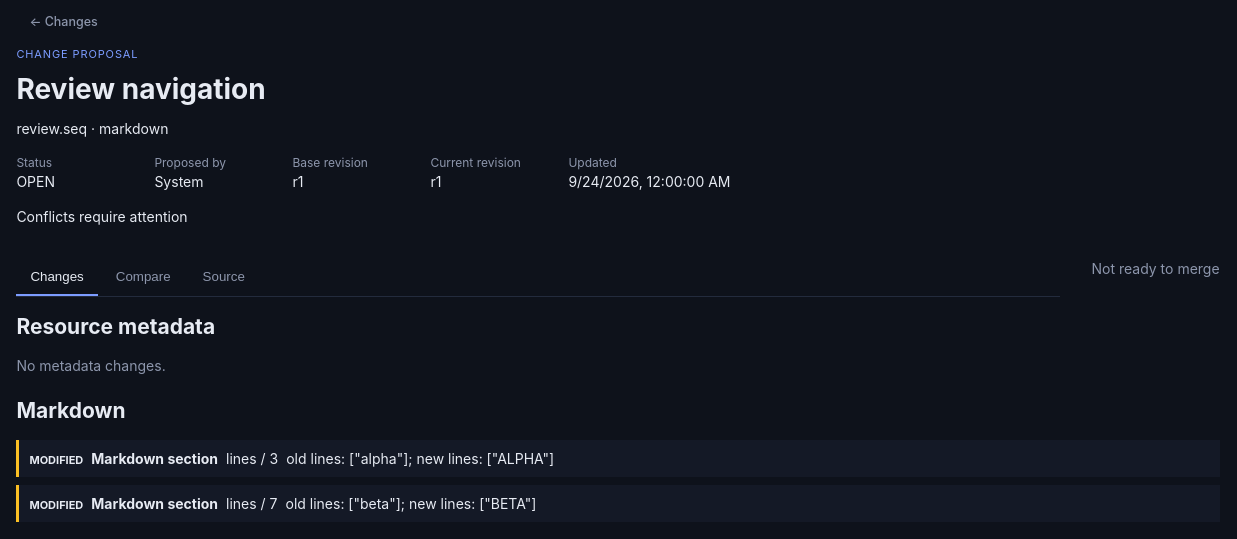
Test: proposal review change navigation › markdown › disables previous at the start and next at the end
This screenshot has width=1237, height=539.
Click the button "Source": (224,278) left=189, top=259, right=259, bottom=296
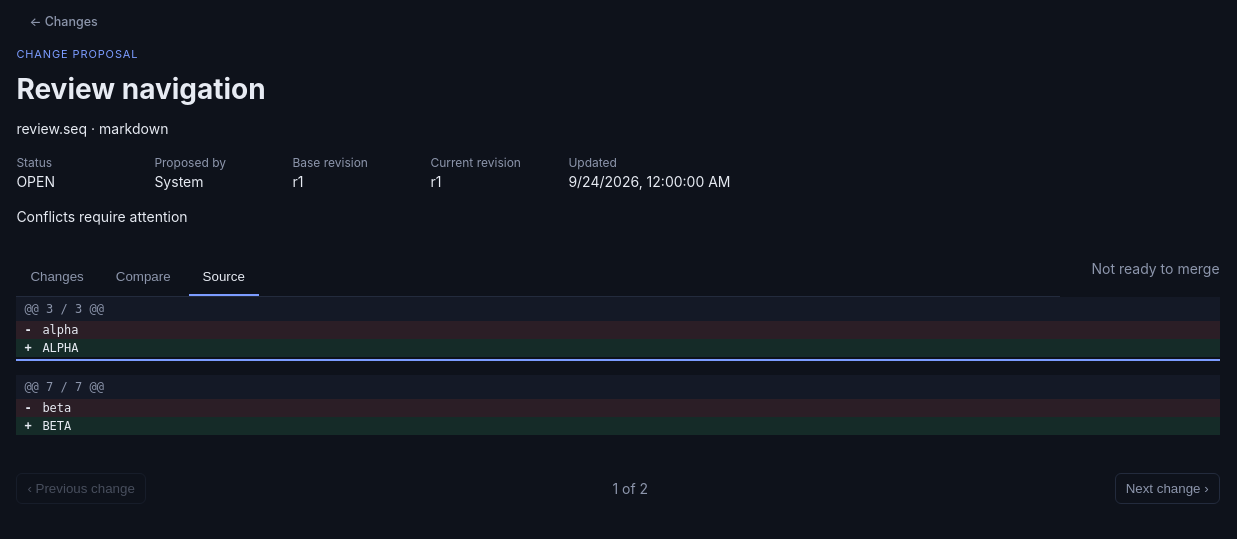
Result: the button with test id "change-previous" is disabled at left=16, top=473, right=146, bottom=504
Result: the button with test id "change-next" is enabled
Click the button with test id "change-next": (1167,488) left=1115, top=473, right=1220, bottom=504
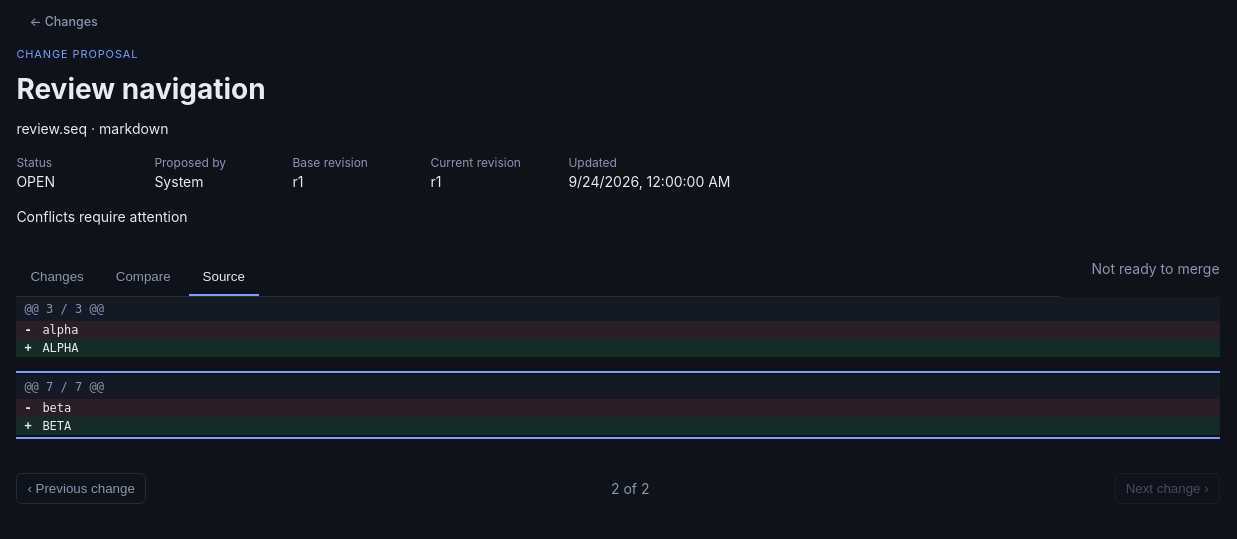
Result: the button with test id "change-next" is disabled at left=1115, top=473, right=1220, bottom=504
Result: the button with test id "change-previous" is enabled at left=16, top=473, right=146, bottom=504
